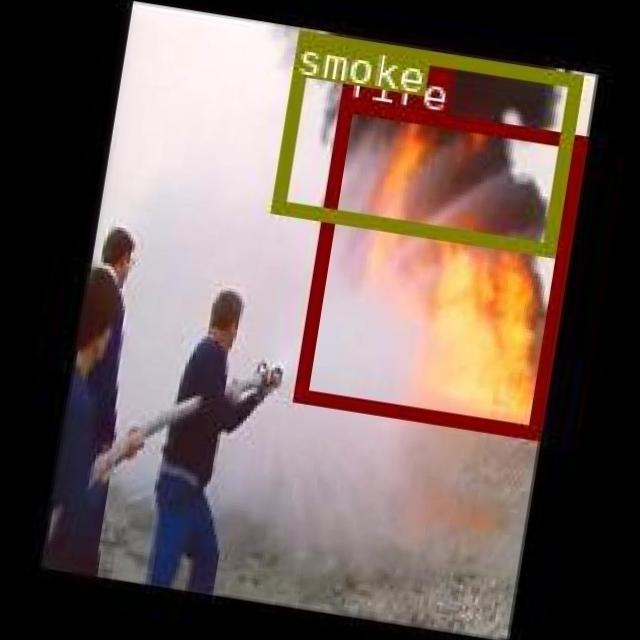fire: (294, 96, 586, 438)
smoke: (270, 28, 580, 255)
